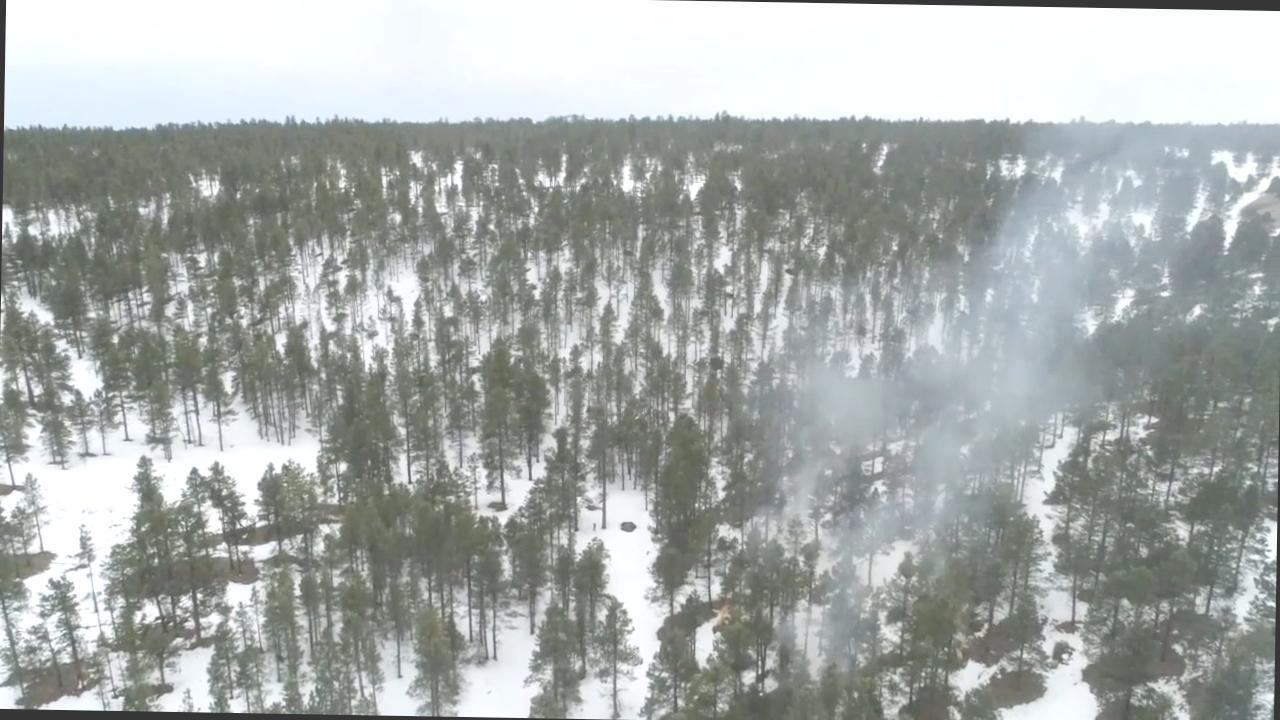smoke: (750, 120, 1220, 644)
